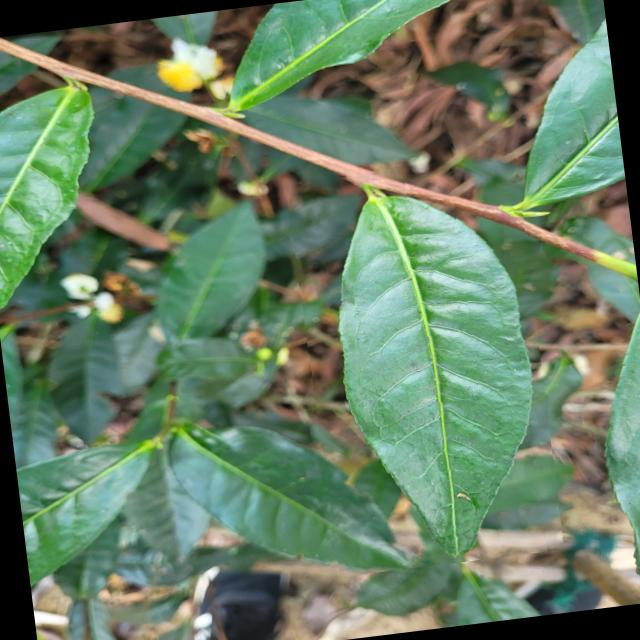Category D(7+ days, Not for Tea): (285, 152, 564, 578)
